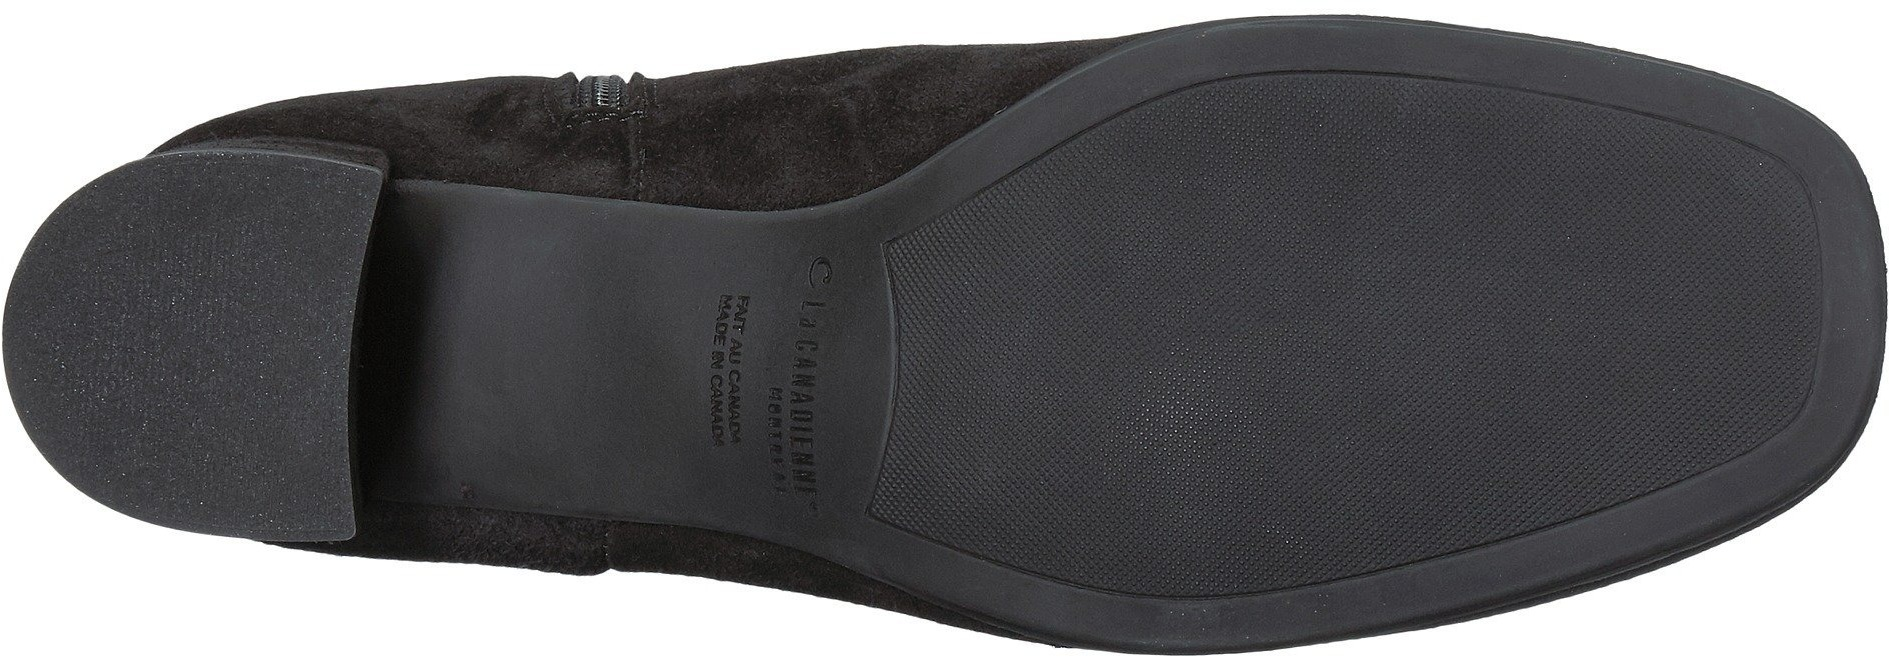circle: (682, 236, 849, 509)
line: (1208, 393, 1429, 612), (80, 262, 264, 405)
other: (860, 59, 1861, 611), (2, 147, 389, 539)
text: (682, 236, 849, 509)
